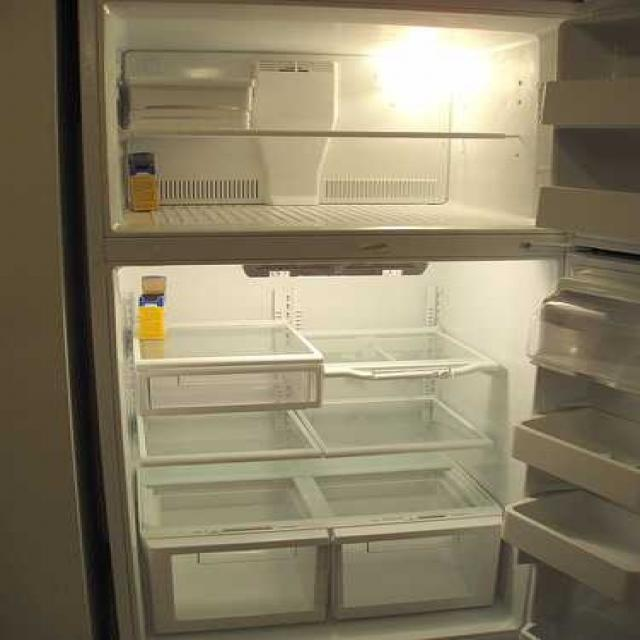refrigerator: (73, 0, 640, 640)
